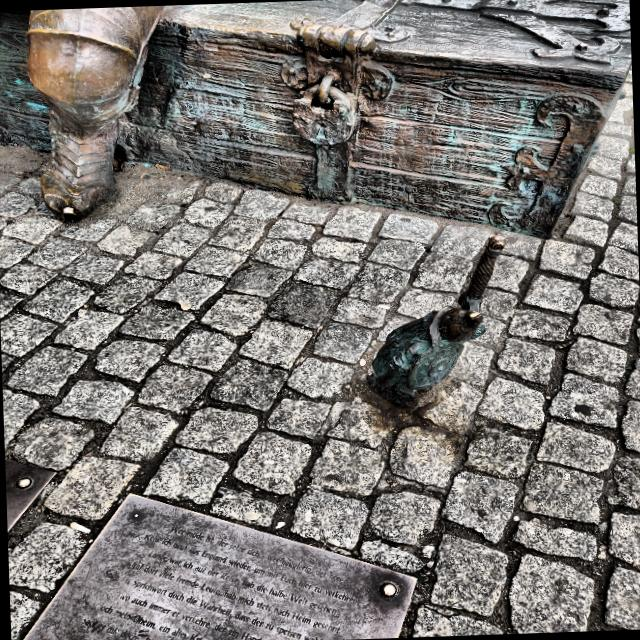Giermek_Grun-Waldek: (367, 235, 506, 406)
